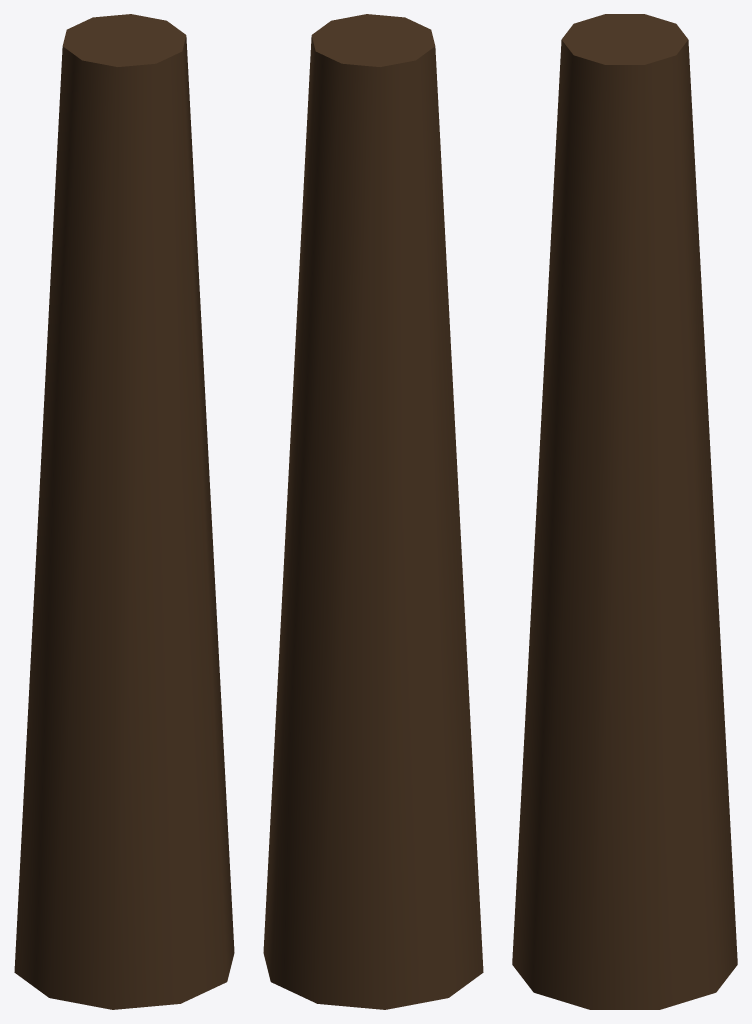
The model's file is root-north.glb.
The picture shows the model from 3 angles, left to right: view 1: azimuth 30°, elevation 25°; view 2: azimuth 150°, elevation 25°; view 3: azimuth 270°, elevation 25°; orthographic projection.
Visible parts, largest first — view 1: Root north; view 2: Root north; view 3: Root north.
Boxes of the visible parts, x1,y1,x2,y2 form: Root north: (14, 14, 234, 1009); Root north: (263, 14, 483, 1009); Root north: (512, 14, 737, 1009).
Bounding box in the file's own units: 7.18 × 34.16 × 7.55.
